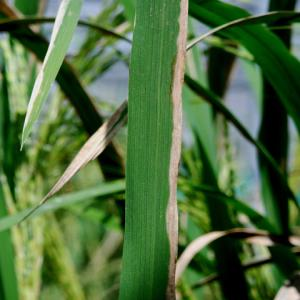Bacterial_Blight: (125, 1, 183, 300), (18, 44, 56, 149)
